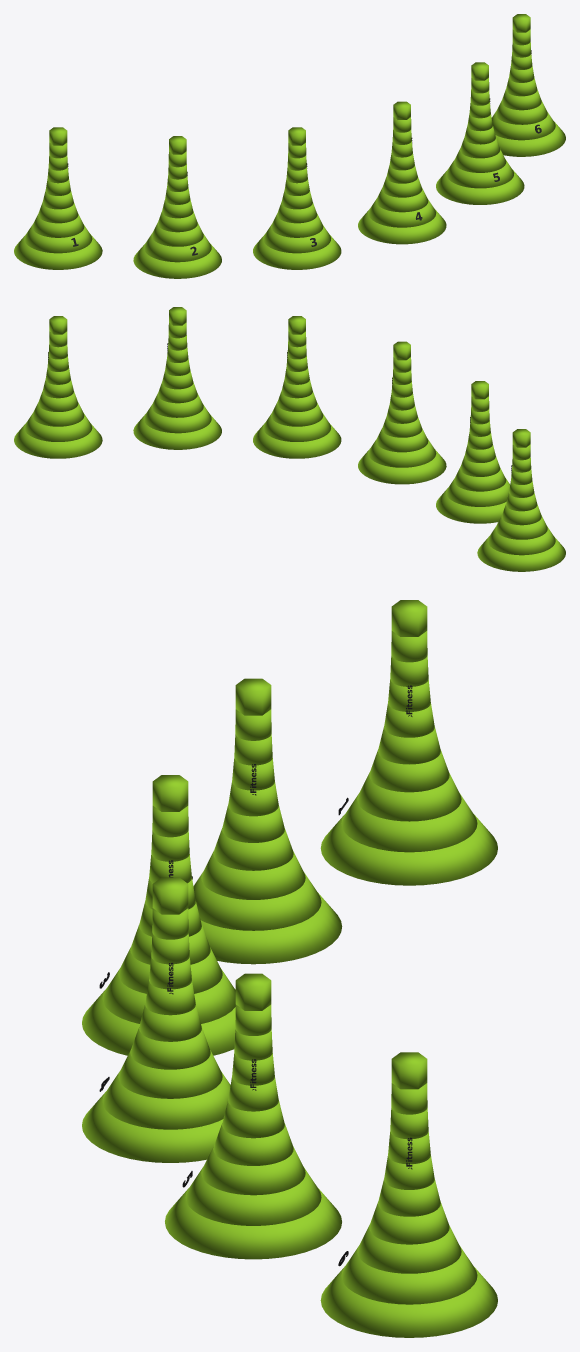
Rendered from life-fitness-speed-cones-set-of-6_v001.glb.
The picture shows the model from 3 angles, top to bottom: view 1: azimuth 30°, elevation 25°; view 2: azimuth 150°, elevation 25°; view 3: azimuth 270°, elevation 25°; orthographic projection. The views are drawn at different scales.
Parts seen in each view (by area): view 1: life-fitness-speed-cones-set-of-6_lime; view 2: life-fitness-speed-cones-set-of-6_lime; view 3: life-fitness-speed-cones-set-of-6_lime, life-fitness-speed-cones-set-of-6_ink.
Part boxes in pixels (<box>): life-fitness-speed-cones-set-of-6_lime: <box>14,14,565,278</box>; life-fitness-speed-cones-set-of-6_lime: <box>14,307,565,571</box>; life-fitness-speed-cones-set-of-6_lime: <box>82,600,497,1337</box>; life-fitness-speed-cones-set-of-6_ink: <box>99,685,412,1266</box>.
Bounding box in the file's own units: 1.07 × 0.2291 × 0.3576.
